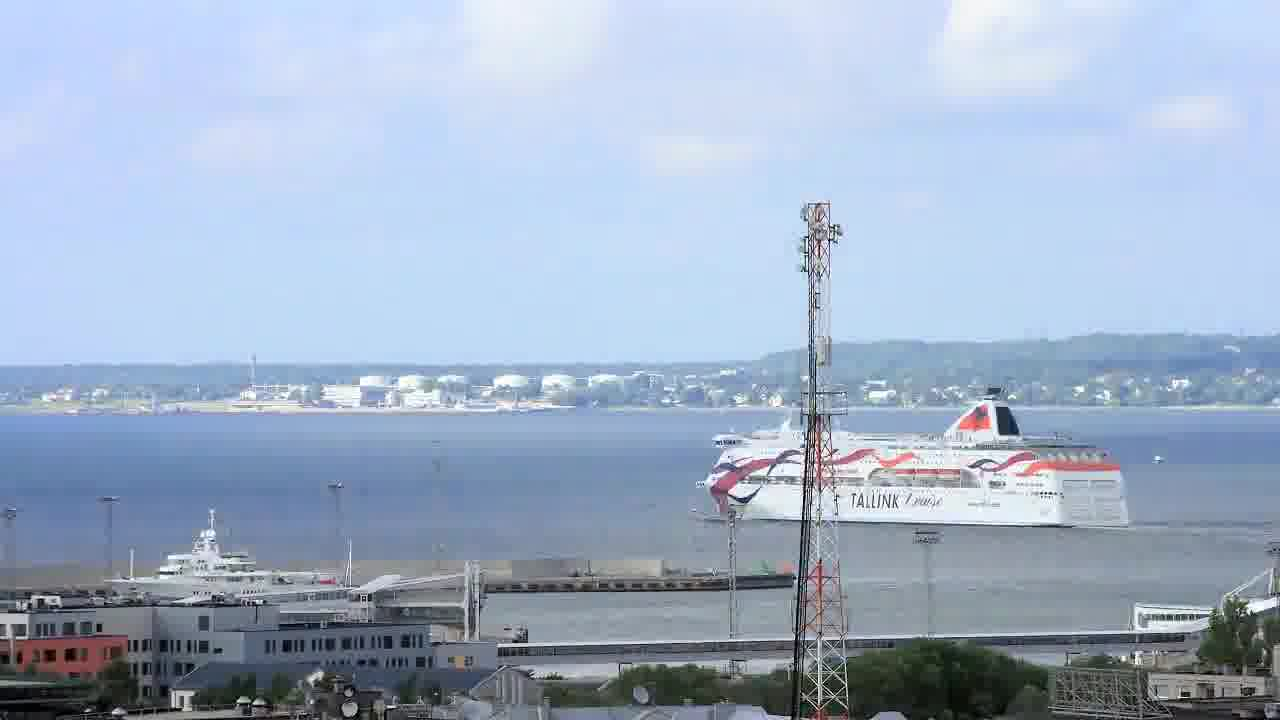type-3: (682, 378, 1141, 555), (96, 508, 381, 605)
